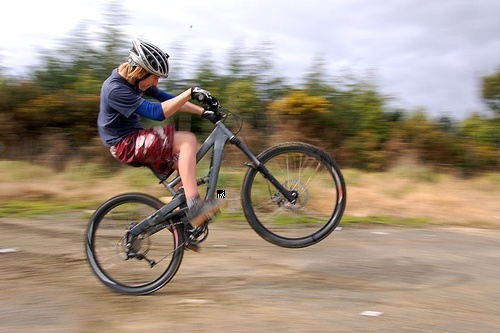car: (85, 87, 349, 294)
person: (98, 43, 220, 249)
person/foot: (186, 199, 230, 225)
person/hand: (190, 86, 218, 108), (201, 109, 220, 124)
person/head: (126, 39, 161, 90)
